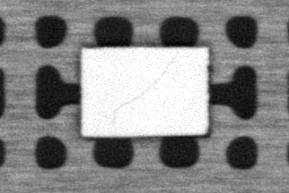DIE_CRACK: (114, 51, 178, 110)
